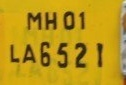character: (55, 42, 68, 68), (74, 42, 87, 68), (26, 11, 42, 31), (21, 43, 36, 64), (39, 41, 51, 67), (44, 11, 57, 30), (62, 11, 75, 30), (9, 44, 20, 63), (95, 42, 103, 68), (78, 11, 86, 30)
